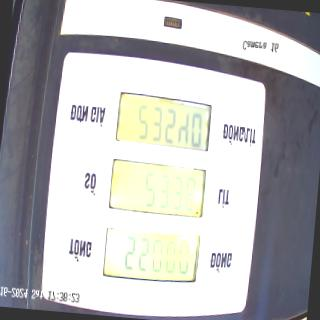screen: (100, 89, 216, 288)
